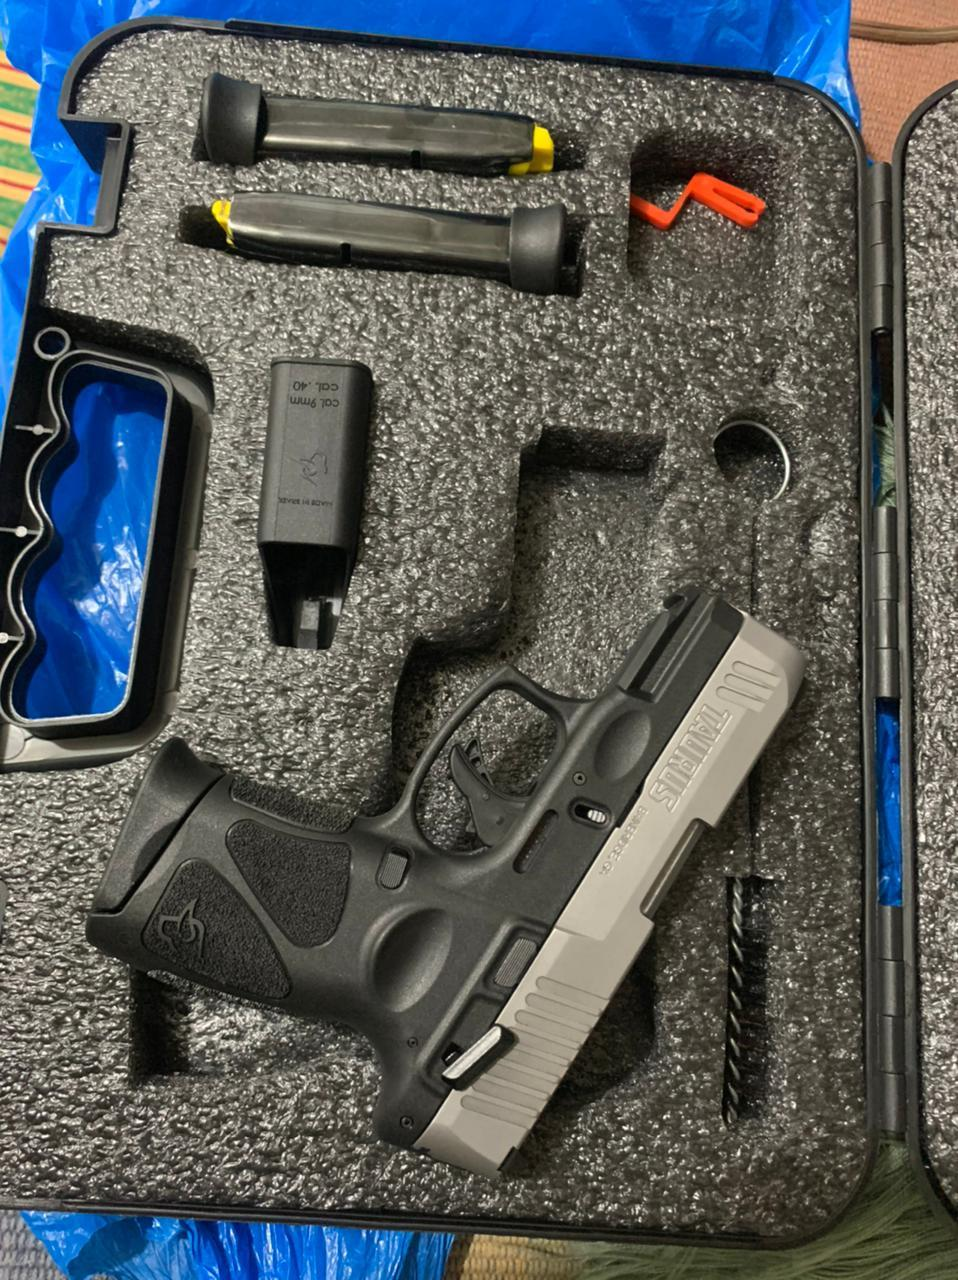weapon: (85, 586, 808, 1174)
